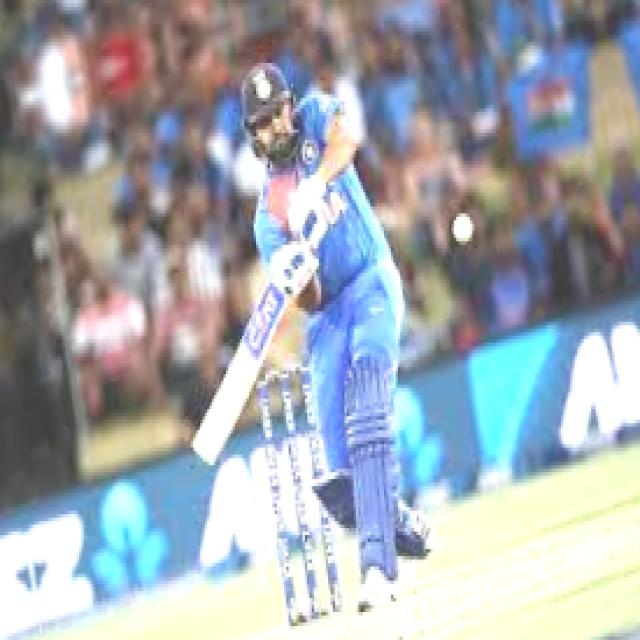toe: (186, 443, 218, 473)
